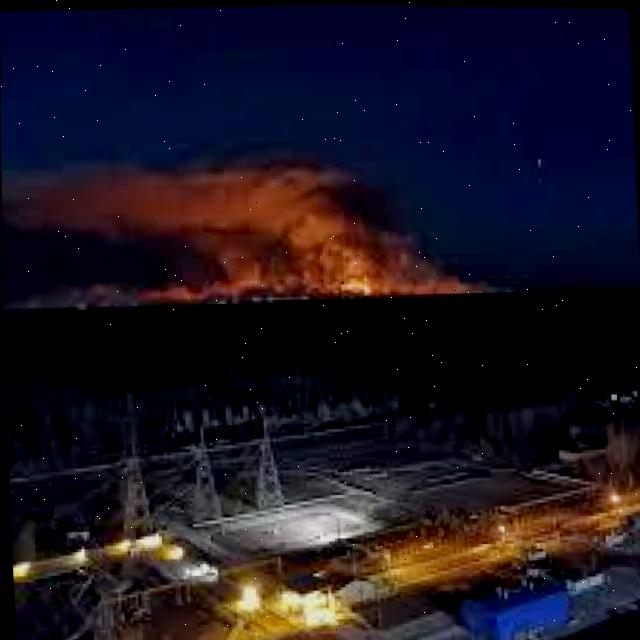smoke: (1, 166, 526, 291)
